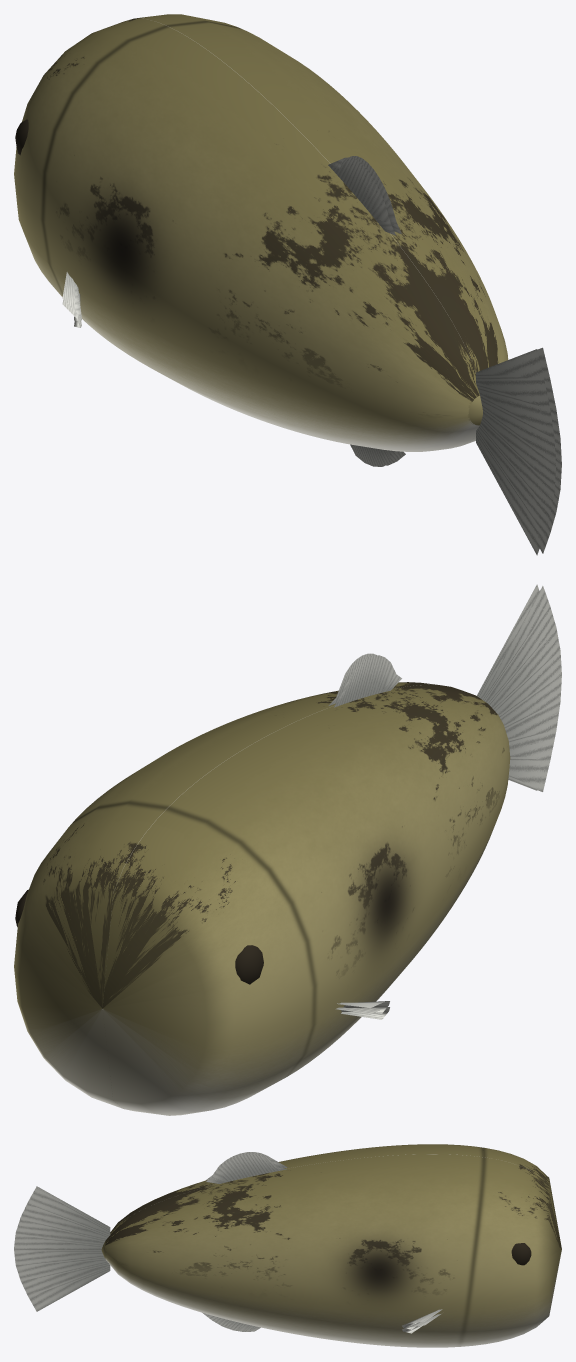
Rendered from HO_Fish_Fugu.fbx.
The picture shows the model from 3 angles, top to bottom: view 1: azimuth 30°, elevation 25°; view 2: azimuth 150°, elevation 25°; view 3: azimuth 270°, elevation 25°; orthographic projection. The views are drawn at different scales.
Visible parts, largest first — view 1: HO_Fish_Fugu__Fish_Fugu, HO_Fish_Fugu__Fish_Fin; view 2: HO_Fish_Fugu__Fish_Fugu, HO_Fish_Fugu__Fish_Fin, HO_Fish_Fugu__Fish_Eye; view 3: HO_Fish_Fugu__Fish_Fugu, HO_Fish_Fugu__Fish_Fin, HO_Fish_Fugu__Fish_Eye.
Part boxes in pixels (bbox=[...]): HO_Fish_Fugu__Fish_Fugu: bbox=[14, 14, 508, 451]; HO_Fish_Fugu__Fish_Fin: bbox=[62, 156, 561, 555]; HO_Fish_Fugu__Fish_Fugu: bbox=[14, 682, 510, 1115]; HO_Fish_Fugu__Fish_Fin: bbox=[328, 584, 561, 1019]; HO_Fish_Fugu__Fish_Eye: bbox=[15, 889, 263, 984]; HO_Fish_Fugu__Fish_Fugu: bbox=[101, 1144, 561, 1347]; HO_Fish_Fugu__Fish_Fin: bbox=[14, 1152, 442, 1333]; HO_Fish_Fugu__Fish_Eye: bbox=[511, 1243, 531, 1265].
Size of the model in its own units: 0.4211 by 0.4004 by 1.08.
